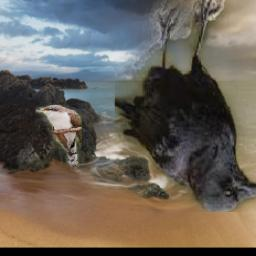Crow: (116, 0, 256, 212)
Cuckoo: (35, 106, 82, 168)
